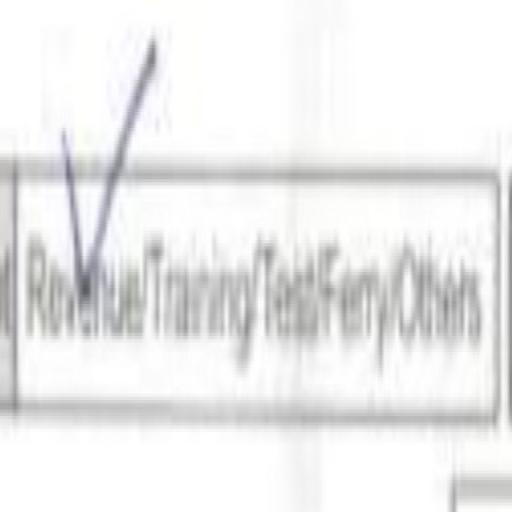check: (23, 96, 144, 444)
